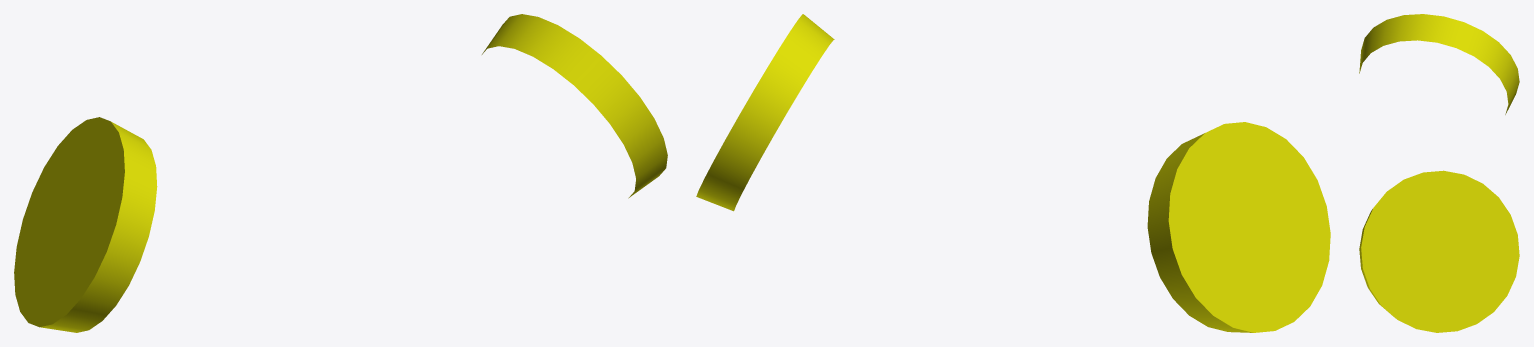
The model's file is Cap1_78.glb.
3 renders of one model, left to right at view 1: azimuth 30°, elevation 25°; view 2: azimuth 150°, elevation 25°; view 3: azimuth 270°, elevation 25°, orthographic. The views are drawn at different scales.
Size of the model in its own units: 59.6 by 17.73 by 18.44.
